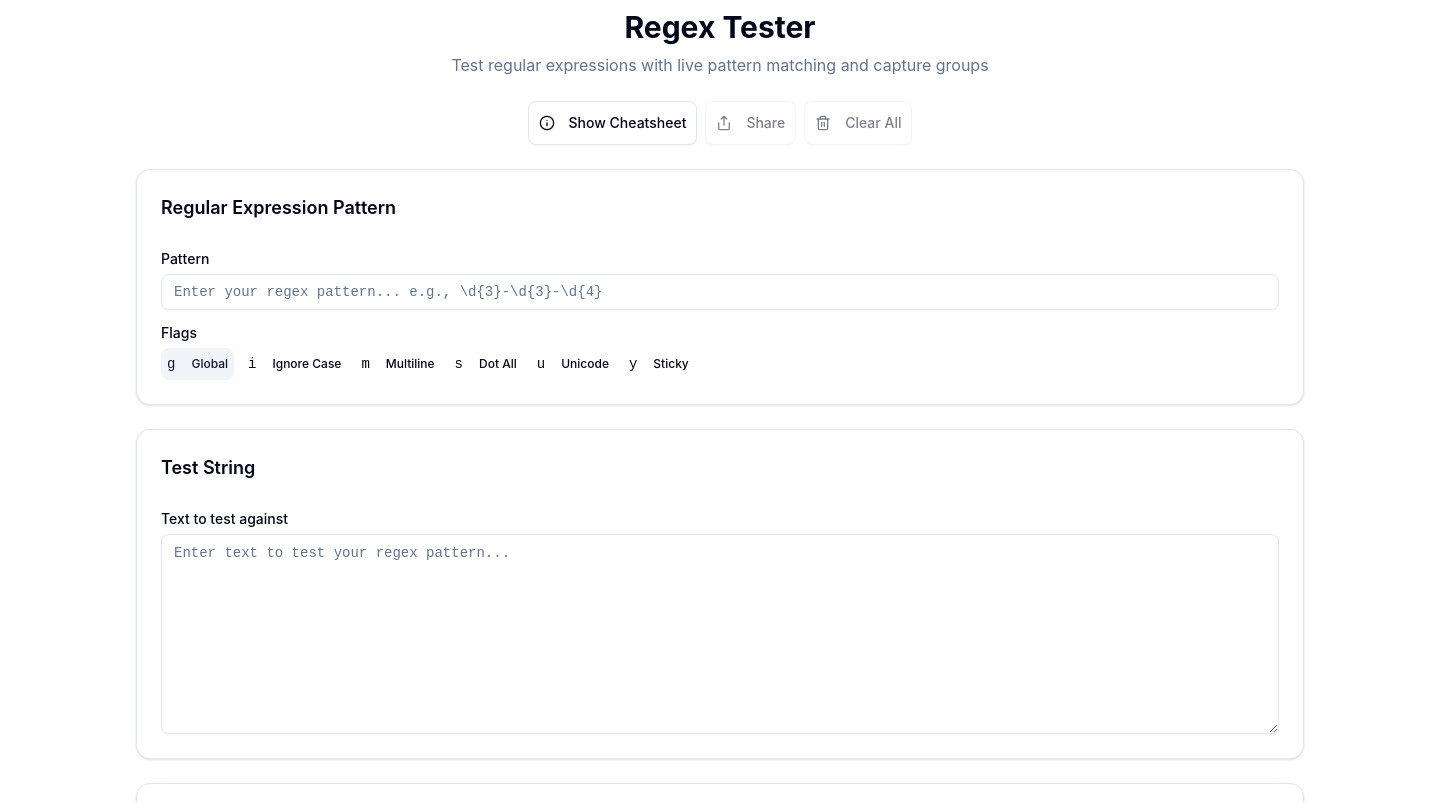
Test: RegexTester › highlights matches in test text
The width and height of the screenshot is (1440, 803).
Type "\\d+" into the field labelled "Pattern" at {"x": 720, "y": 292}, box [161,274,1279,310]
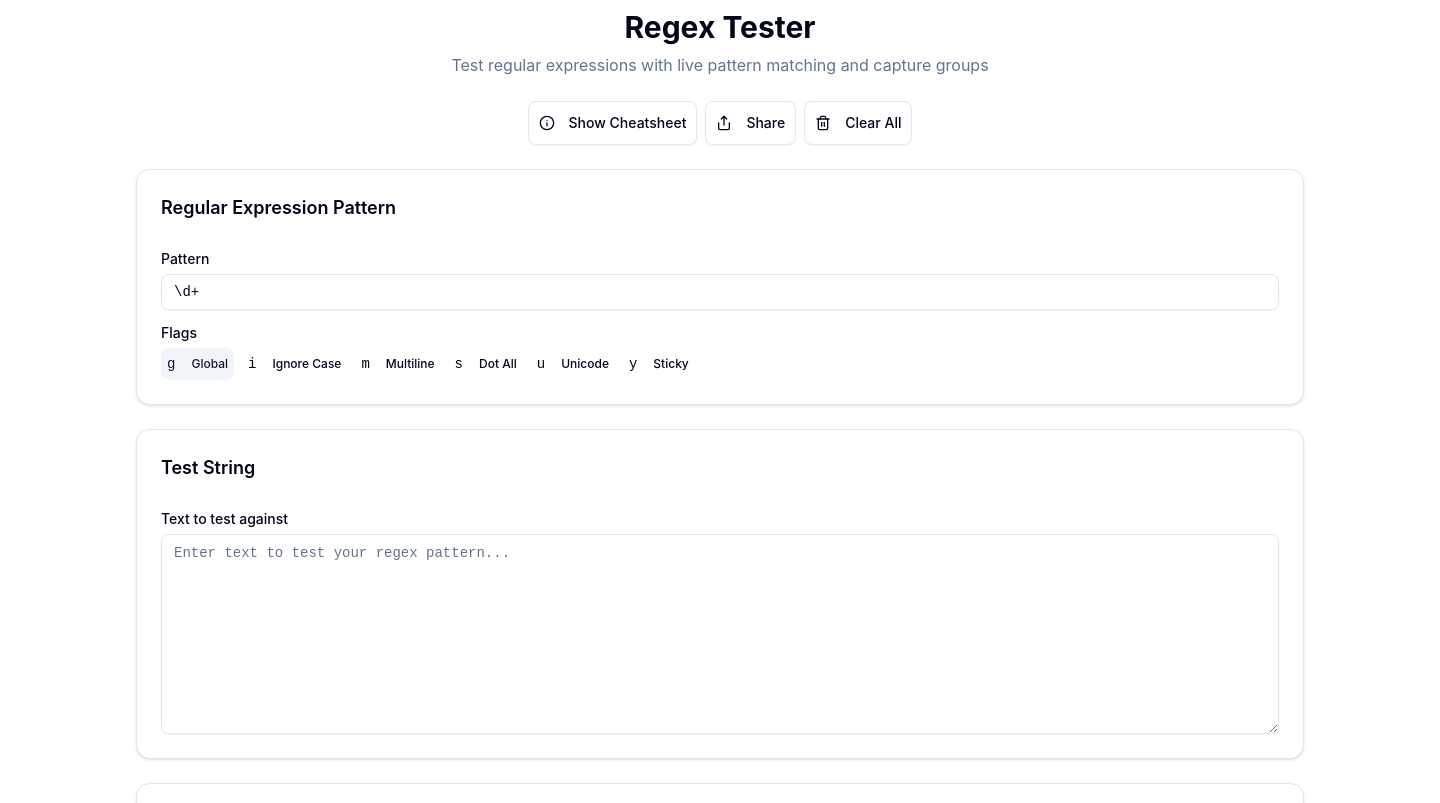
Type "Test 123" into the text box labelled "Text to test against" at {"x": 720, "y": 634}, box [161,534,1279,734]
(page scrolled)
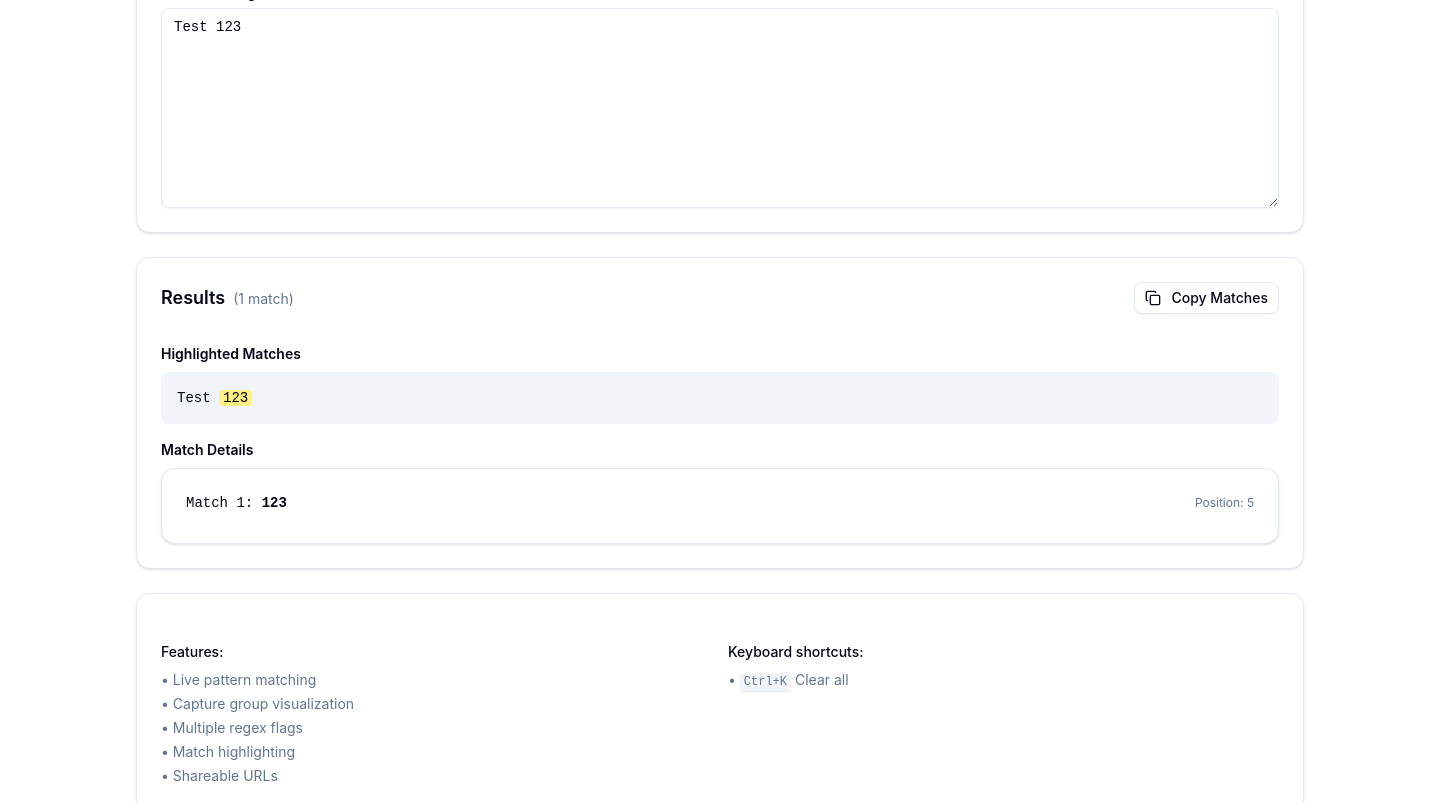
Result: the text "123" below "Highlighted Matches" is shown at [219,390,252,406]
